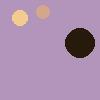Circle: (63, 26, 96, 61), (8, 9, 32, 27), (35, 5, 51, 21)
